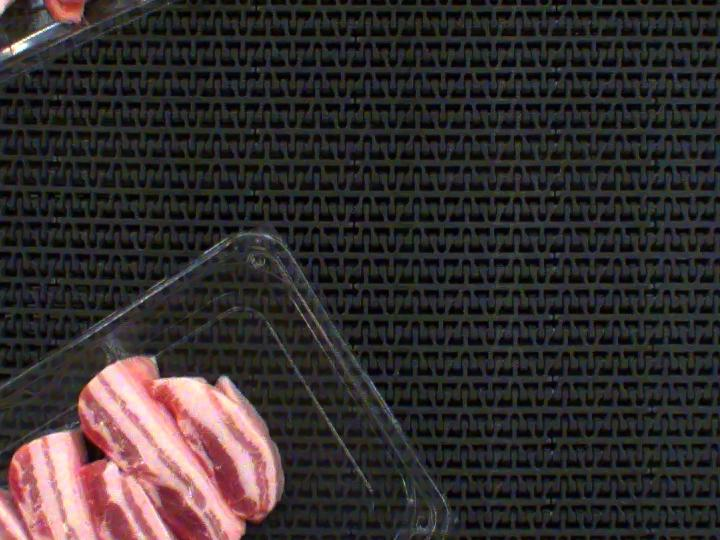packaging-error: (79, 307, 147, 383)
